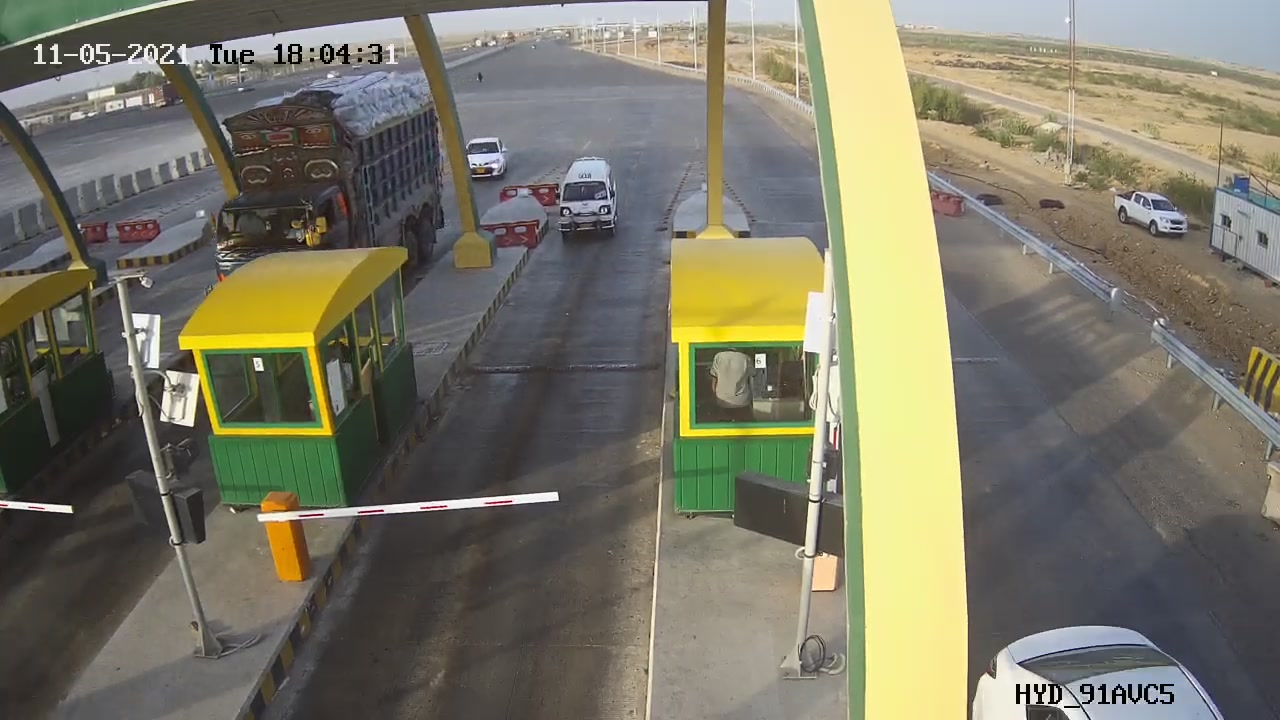F1: (531, 137, 645, 259)
